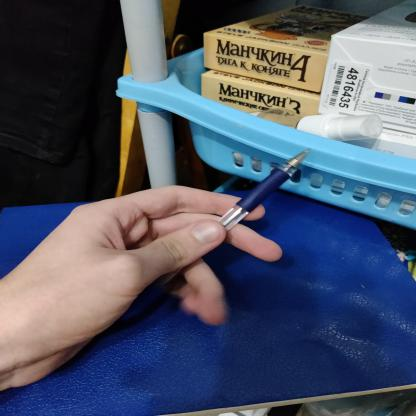Pen: (87, 141, 323, 326)
